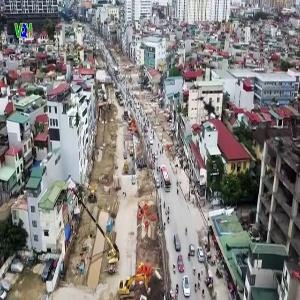drone: (184, 87, 231, 134)
